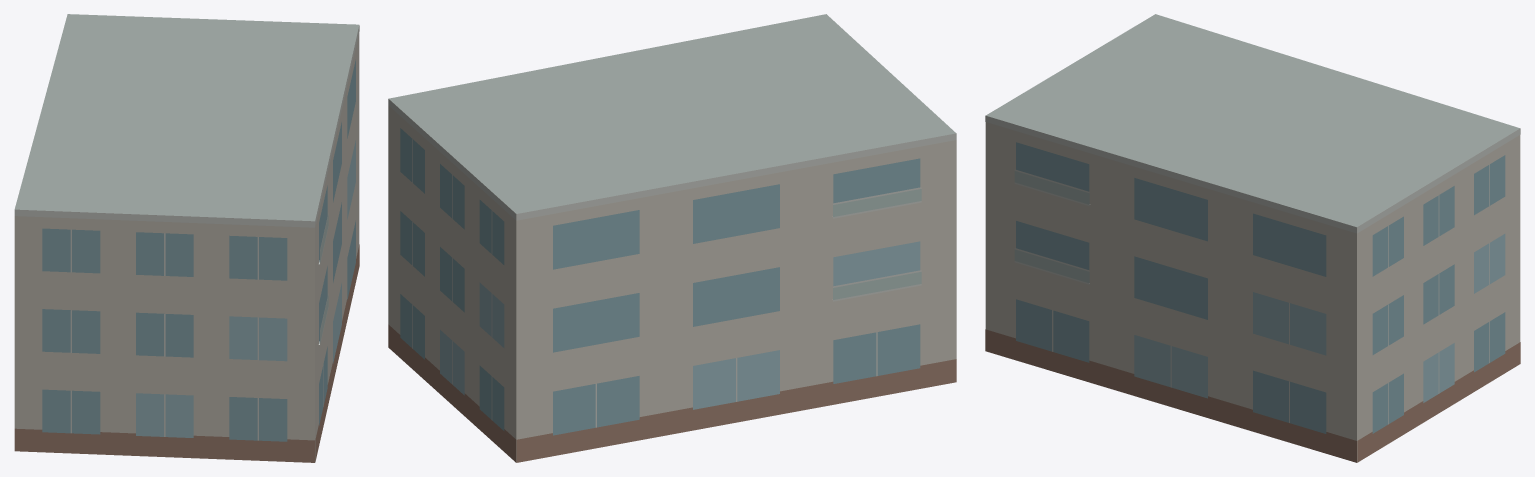
The model's file is survey-upis-32759356.glb.
3 renders of one model, left to right at view 1: azimuth 30°, elevation 25°; view 2: azimuth 150°, elevation 25°; view 3: azimuth 270°, elevation 25°, orthographic. The views are drawn at different scales.
Parts seen in each view (by area): view 1: survey-upis-32759356.tmp; view 2: survey-upis-32759356.tmp; view 3: survey-upis-32759356.tmp.
Part boxes in pixels (x1,y1,x2,y2): survey-upis-32759356.tmp: (14, 14, 359, 462); survey-upis-32759356.tmp: (388, 14, 956, 462); survey-upis-32759356.tmp: (985, 14, 1520, 462).
Size of the model in its own units: 17.77 by 9.15 by 18.84.
